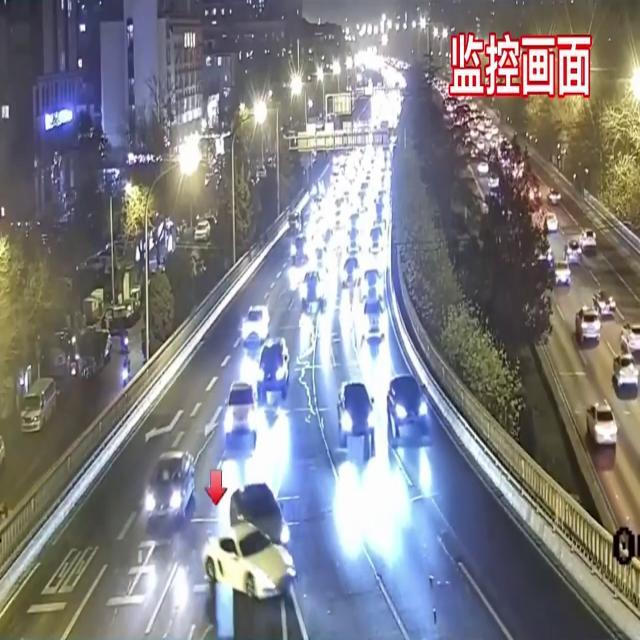multiple_accident: (148, 459, 337, 639)
normal: (223, 290, 296, 445), (328, 360, 440, 446), (129, 432, 194, 534)
